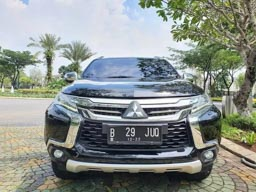plat: (107, 124, 162, 139)
